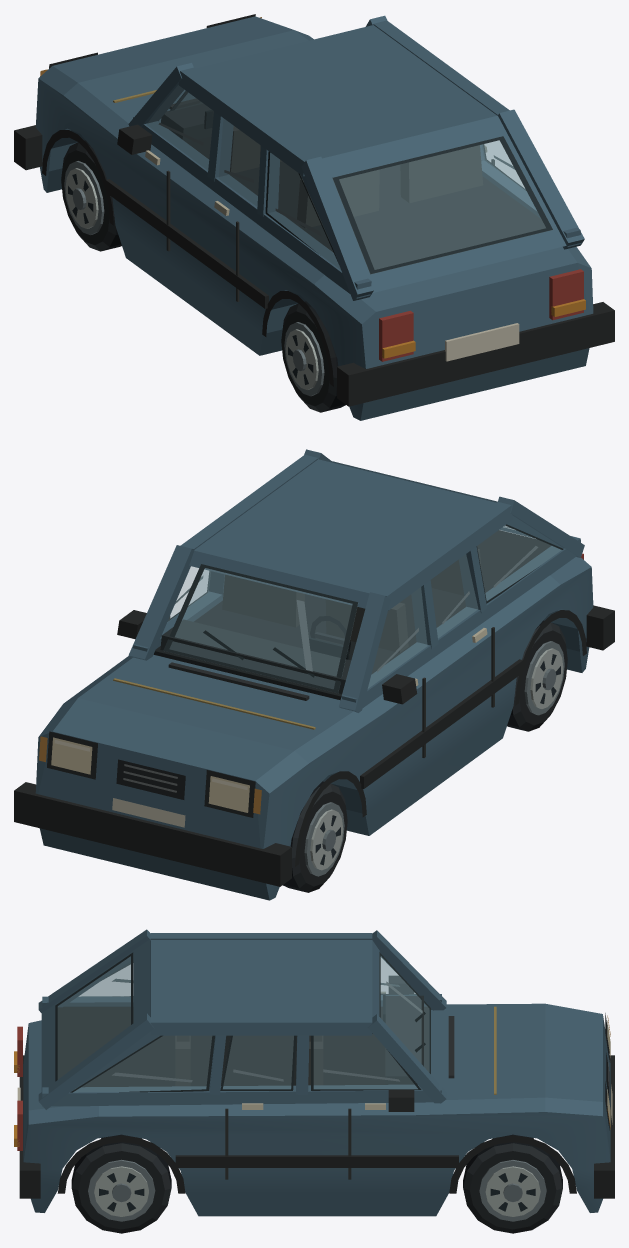
The model's file is citadine_bleu_orage.glb.
The picture shows the model from 3 angles, top to bottom: view 1: azimuth 30°, elevation 25°; view 2: azimuth 150°, elevation 25°; view 3: azimuth 270°, elevation 25°; orthographic projection. The views are drawn at different scales.
Visible parts, largest first — view 1: proposition_citadine_bleu_orage; view 2: proposition_citadine_bleu_orage; view 3: proposition_citadine_bleu_orage.
Boxes of the visible parts, bbox=[...] form: proposition_citadine_bleu_orage: bbox=[14, 14, 614, 420]; proposition_citadine_bleu_orage: bbox=[14, 449, 614, 900]; proposition_citadine_bleu_orage: bbox=[14, 929, 614, 1233].
Size of the model in its own units: 1.81 by 1.43 by 3.72.
